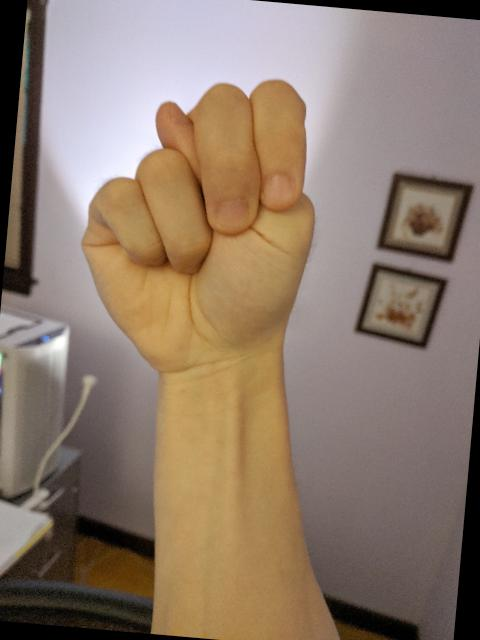N: (66, 59, 334, 392)
